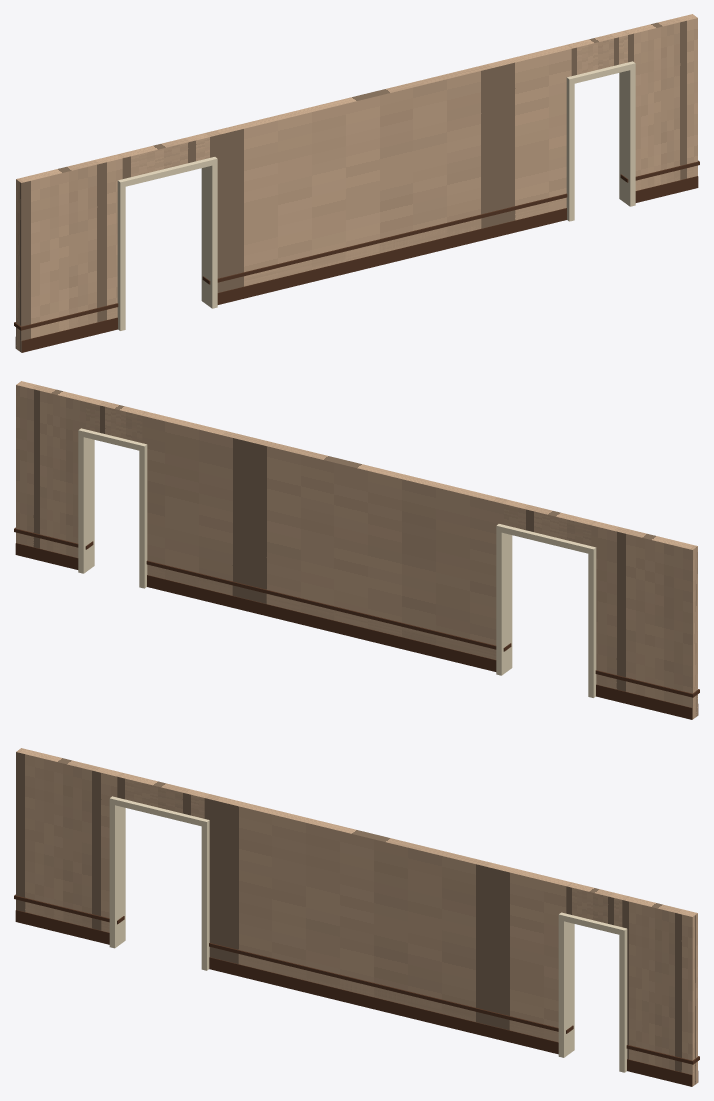
File: hall_front.glb
3 views of the same model, one above another, from view 1: azimuth 30°, elevation 25°; view 2: azimuth 150°, elevation 25°; view 3: azimuth 330°, elevation 25° (orthographic).
Visible parts, largest first — view 1: Box3, Box1, Box5, Box4, Box17, Box10, Box7, Box13, Box8, Box18, Box9, Box12 (+3 smaller); view 2: Box3, Box1, Box5, Box4, Box17, Box10, Box7, Box13, Box8, Box18, Box9, Box12 (+3 smaller); view 3: Box3, Box1, Box5, Box4, Box17, Box9, Box7, Box12, Box8, Box18, Box10, Box13 (+4 smaller).
Part boxes in pixels (x1,y1,x2,y2): Box3: (205,45,571,292); Box1: (16,154,122,352); Box5: (623,14,697,190); Box4: (217,208,566,304); Box17: (217,198,566,292); Box10: (201,157,217,308); Box7: (117,133,209,178); Box13: (619,61,635,206); Box8: (566,31,627,75); Box18: (202,193,567,284); Box9: (117,179,125,330); Box12: (566,76,574,221); Box3: (142,412,508,659); Box1: (591,521,697,719); Box5: (16,381,90,557); Box4: (147,575,496,671); Box17: (147,566,496,659); Box10: (496,524,512,675); Box7: (504,500,596,545); Box13: (78,428,94,573); Box8: (86,398,147,442); Box18: (146,560,511,651); Box9: (588,546,596,697); Box12: (139,443,147,588); Box3: (204,794,571,1041); Box1: (16,748,122,932); Box5: (622,896,697,1086); Box4: (209,957,558,1054); Box17: (209,947,558,1041); Box9: (109,796,125,948); Box7: (117,773,209,818); Box12: (558,912,574,1057); Box8: (566,882,627,926); Box18: (209,943,573,1033); Box10: (201,819,209,970); Box13: (619,927,627,1072).
Bounding box in the file's own units: 10.89 × 2.6 × 0.3.
Materials: 3 (1 with a texture image).
